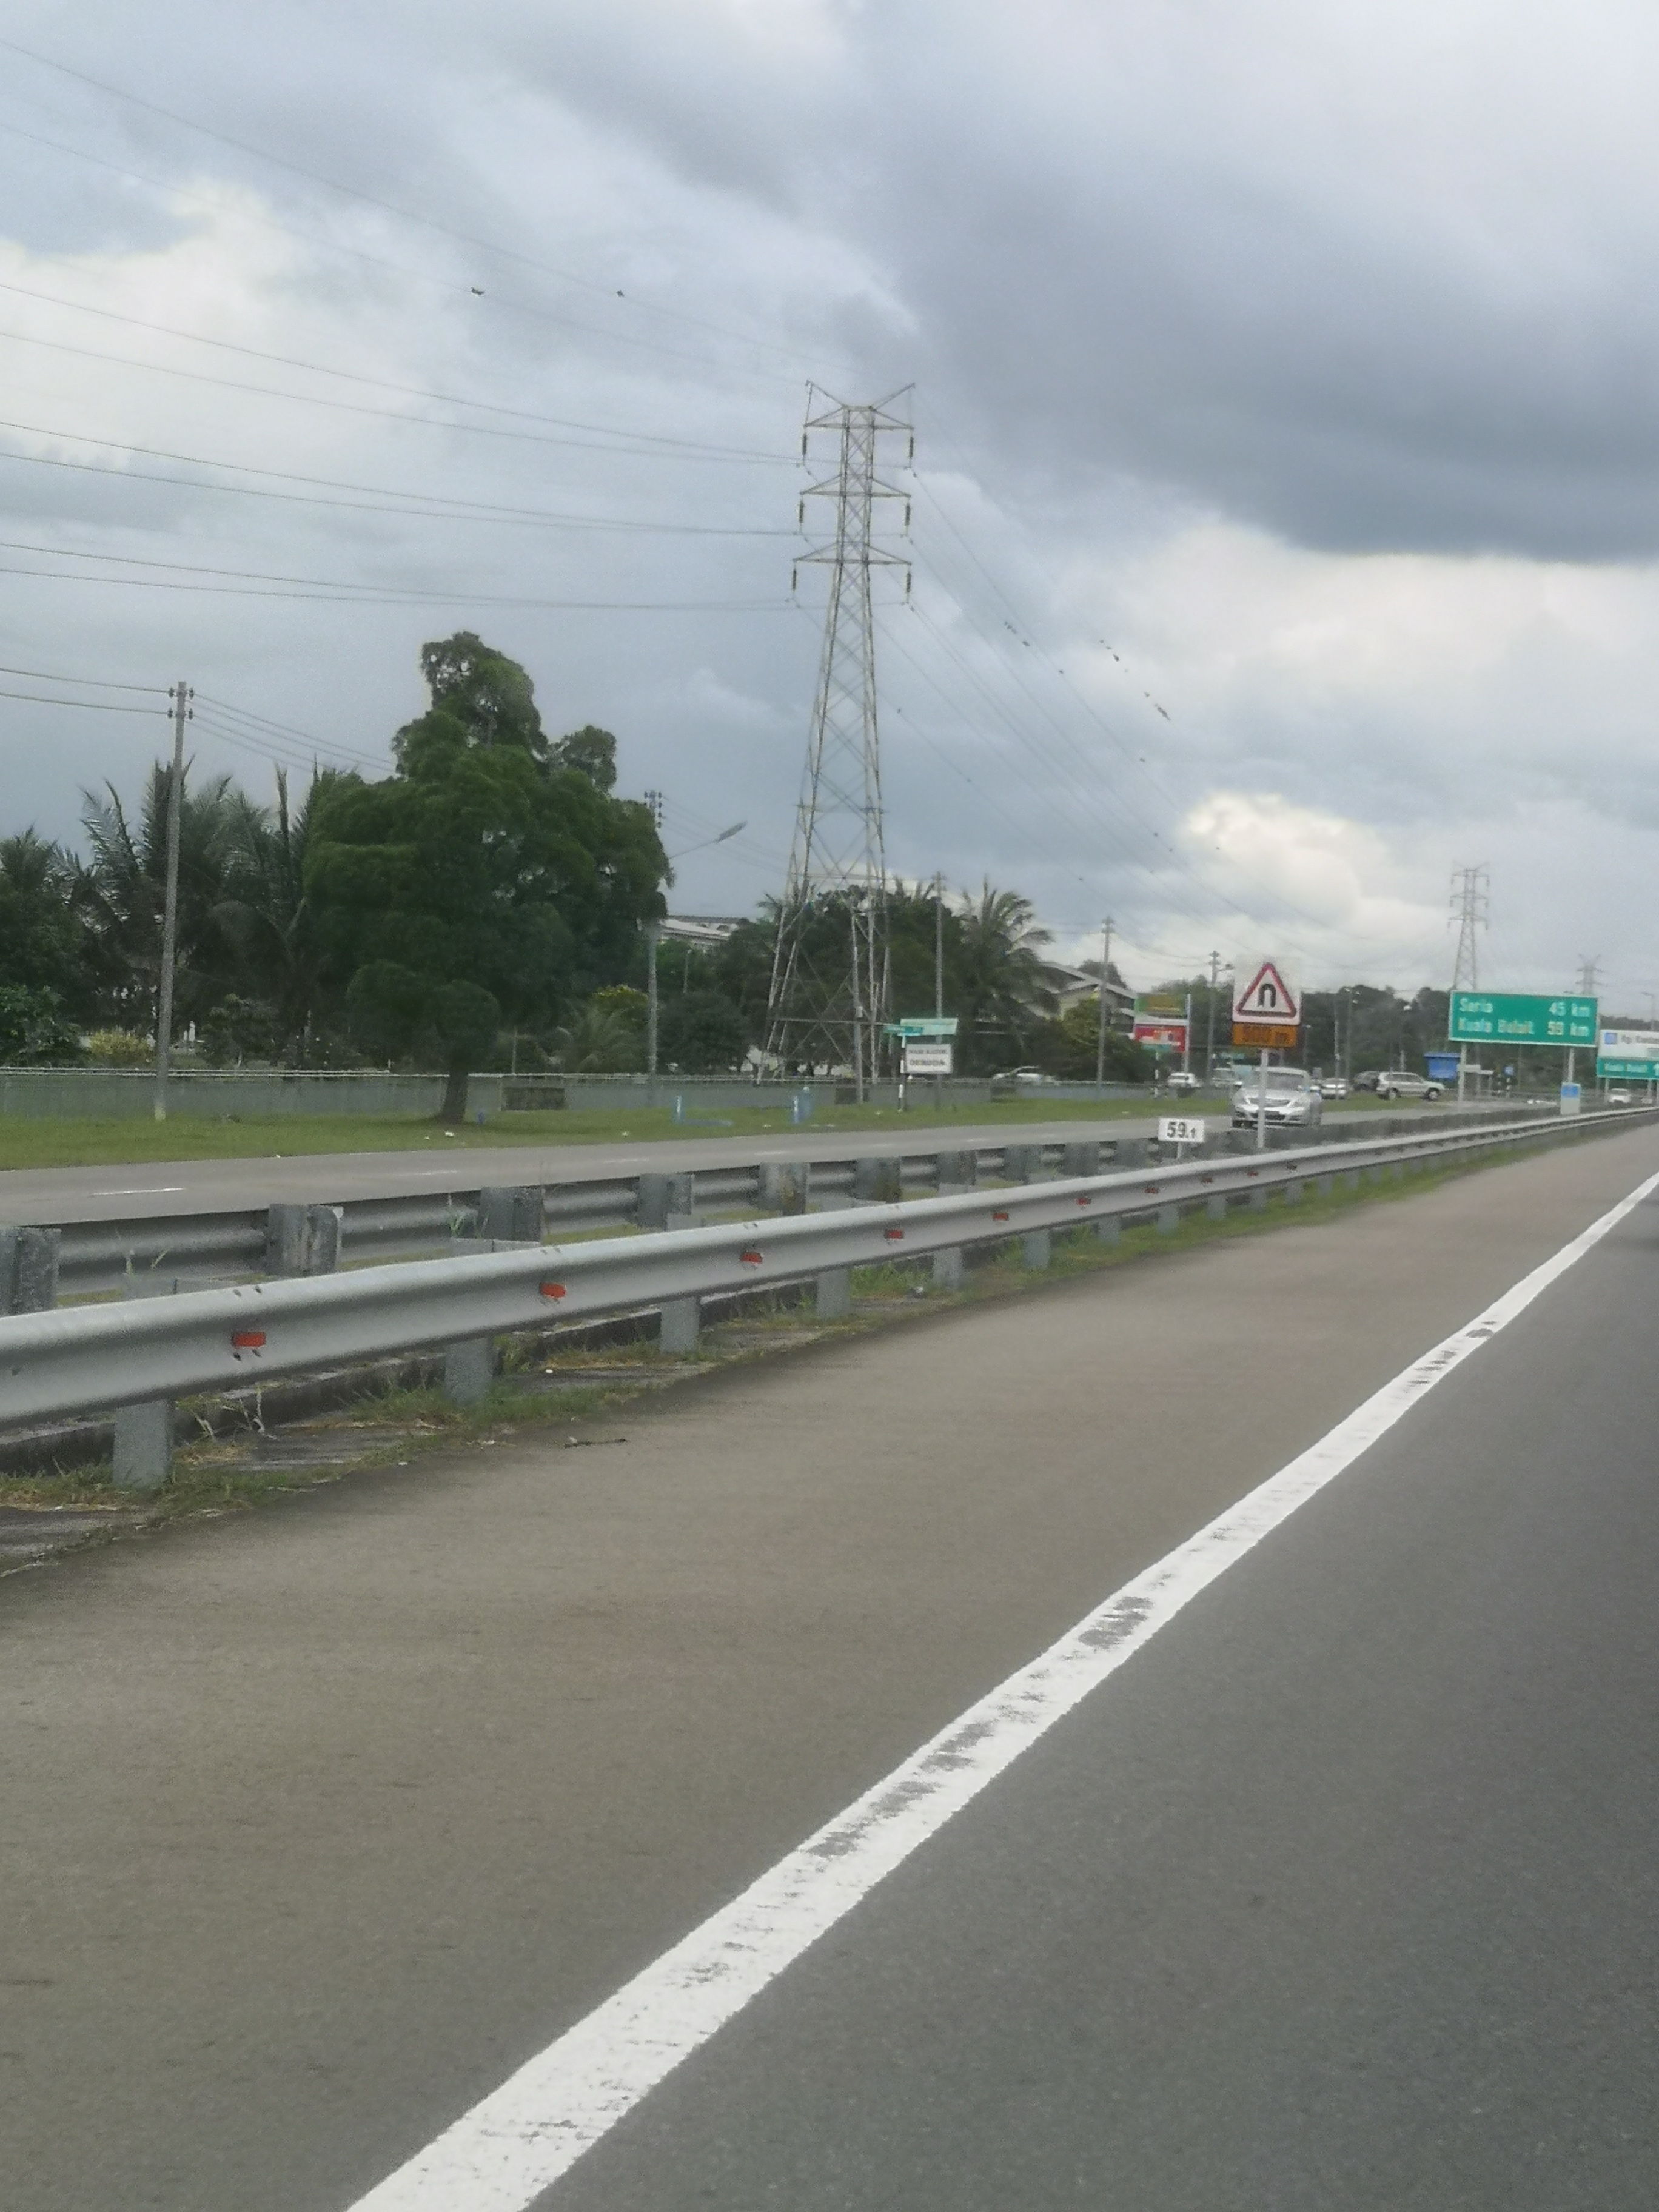U-turn: (1230, 953, 1305, 1031)
